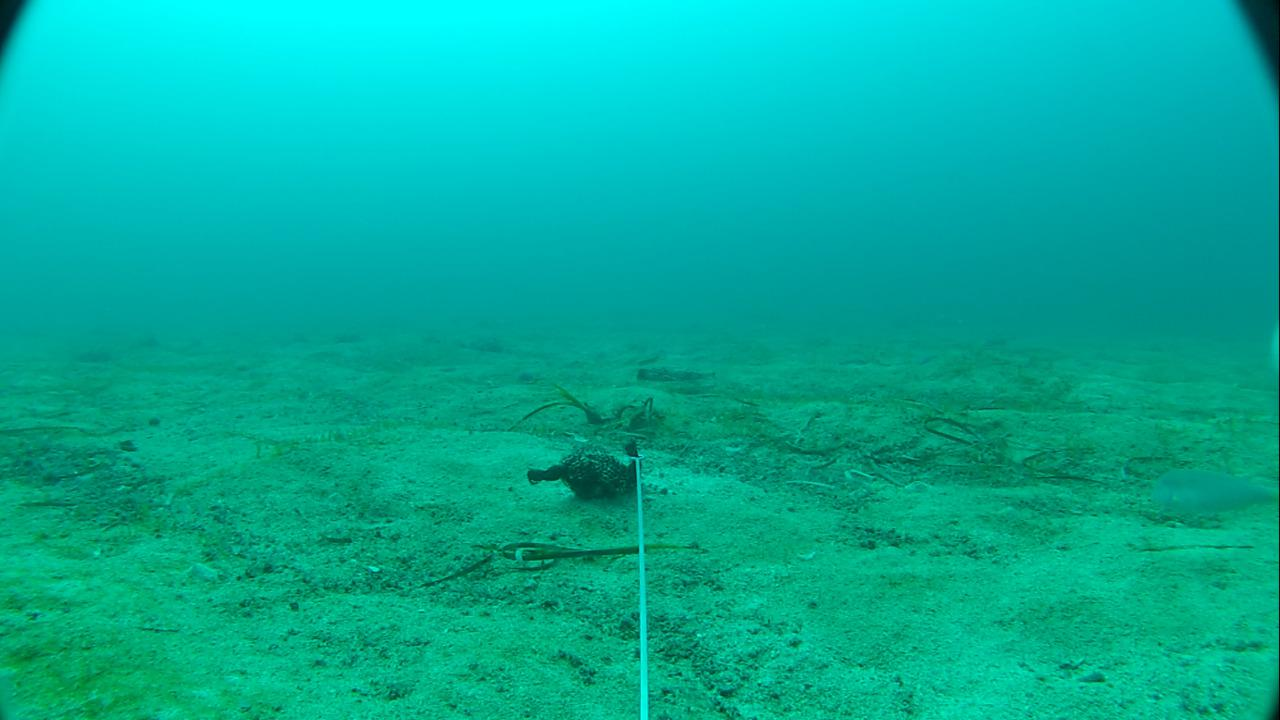dactylopterus: (628, 358, 718, 385)
raor: (1135, 463, 1279, 519)
